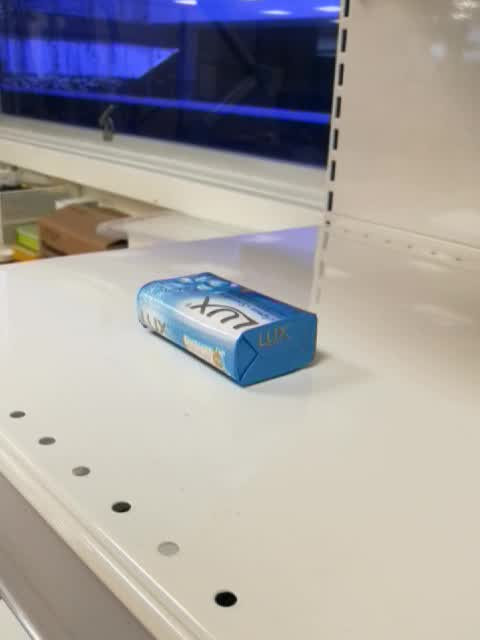soap: (135, 270, 319, 388)
